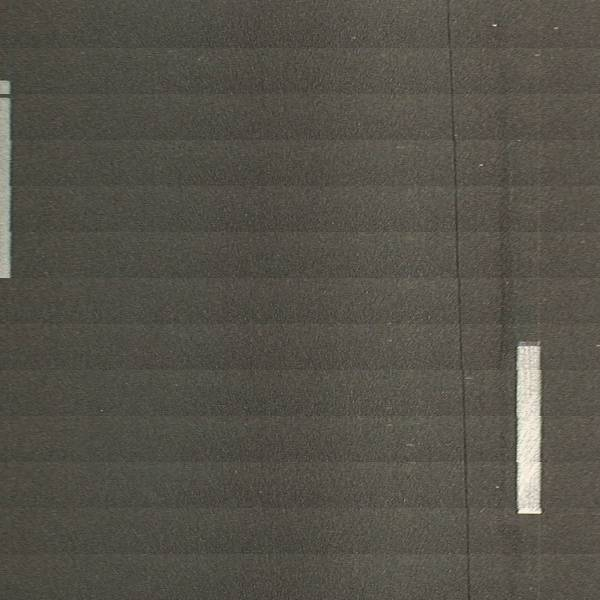road_damage: (447, 35, 471, 582)
